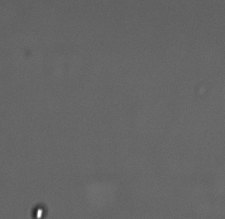Living Cell: (30, 203, 49, 218)
